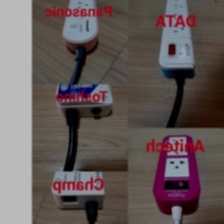three_eye_plug: (147, 132, 203, 220), (156, 0, 197, 81), (45, 170, 108, 213), (59, 0, 103, 59), (52, 83, 114, 124)
